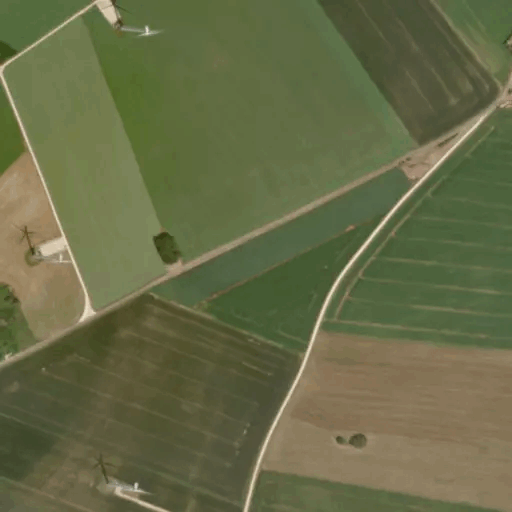wt: (80, 449, 158, 497), (6, 217, 79, 268), (89, 1, 167, 43)
